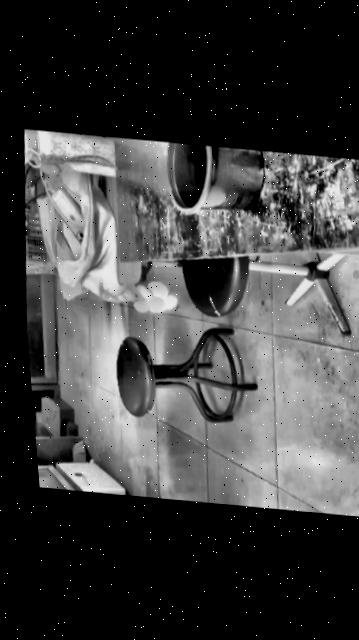pot: (158, 141, 265, 220)
